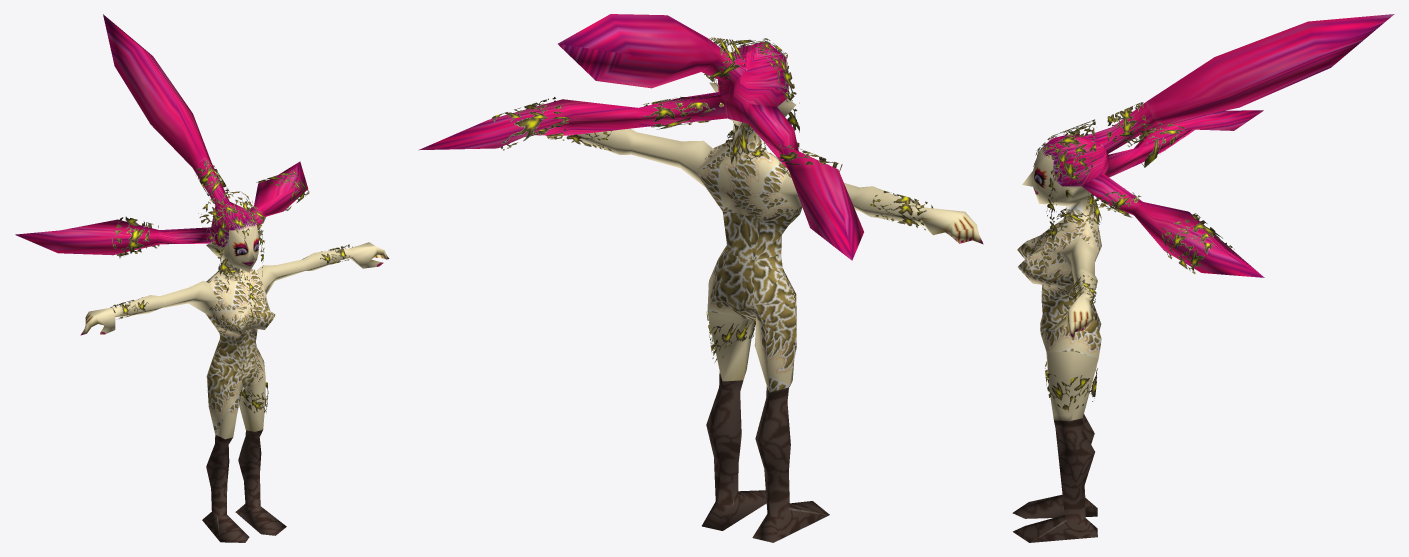
The model's file is GreatFairy.obj.
The picture shows the model from 3 angles, left to right: view 1: azimuth 30°, elevation 25°; view 2: azimuth 150°, elevation 25°; view 3: azimuth 270°, elevation 25°; orthographic projection. The views are drawn at different scales.
Visible parts, largest first — view 1: Material06_GreatFairy_grp.png, Material03_GreatFairy_grp.png, Material02_GreatFairy_grp.png, Material05_GreatFairy_grp.png, Material04_GreatFairy_grp.png, default, Material07_GreatFairy_grp.png, Material10_GreatFairy_grp.png, Material08_GreatFairy_grp.png; view 2: Material06_GreatFairy_grp.png, Material05_GreatFairy_grp.png, Material02_GreatFairy_grp.png, Material03_GreatFairy_grp.png, default, Material04_GreatFairy_grp.png, Material10_GreatFairy_grp.png, Material07_GreatFairy_grp.png; view 3: Material06_GreatFairy_grp.png, Material04_GreatFairy_grp.png, Material05_GreatFairy_grp.png, Material02_GreatFairy_grp.png, Material03_GreatFairy_grp.png, Material10_GreatFairy_grp.png, default, Material07_GreatFairy_grp.png, Material08_GreatFairy_grp.png.
Part boxes in pixels (<box>): Material06_GreatFairy_grp.png: <box>15,14,308,255</box>; Material03_GreatFairy_grp.png: <box>119,225,346,439</box>; Material02_GreatFairy_grp.png: <box>205,260,272,433</box>; Material05_GreatFairy_grp.png: <box>202,430,286,542</box>; Material04_GreatFairy_grp.png: <box>110,160,352,413</box>; default: <box>206,310,275,406</box>; Material07_GreatFairy_grp.png: <box>80,242,389,335</box>; Material10_GreatFairy_grp.png: <box>211,189,256,247</box>; Material08_GreatFairy_grp.png: <box>229,225,258,263</box>; Material06_GreatFairy_grp.png: <box>418,14,863,260</box>; Material05_GreatFairy_grp.png: <box>702,372,829,542</box>; Material02_GreatFairy_grp.png: <box>696,121,796,392</box>; Material03_GreatFairy_grp.png: <box>572,82,916,391</box>; default: <box>715,206,802,346</box>; Material04_GreatFairy_grp.png: <box>491,37,932,362</box>; Material10_GreatFairy_grp.png: <box>718,42,789,123</box>; Material07_GreatFairy_grp.png: <box>538,103,983,244</box>; Material06_GreatFairy_grp.png: <box>1082,14,1394,277</box>; Material04_GreatFairy_grp.png: <box>1029,102,1234,411</box>; Material05_GreatFairy_grp.png: <box>1012,414,1097,542</box>; Material02_GreatFairy_grp.png: <box>1017,195,1101,358</box>; Material03_GreatFairy_grp.png: <box>1022,152,1098,420</box>; Material10_GreatFairy_grp.png: <box>1038,127,1112,186</box>; default: <box>1017,242,1101,338</box>; Material07_GreatFairy_grp.png: <box>1056,292,1093,337</box>; Material08_GreatFairy_grp.png: <box>1033,156,1053,200</box>.
Bounding box in the file's own units: 141 × 181 × 124.
1 material, 1 textured.
